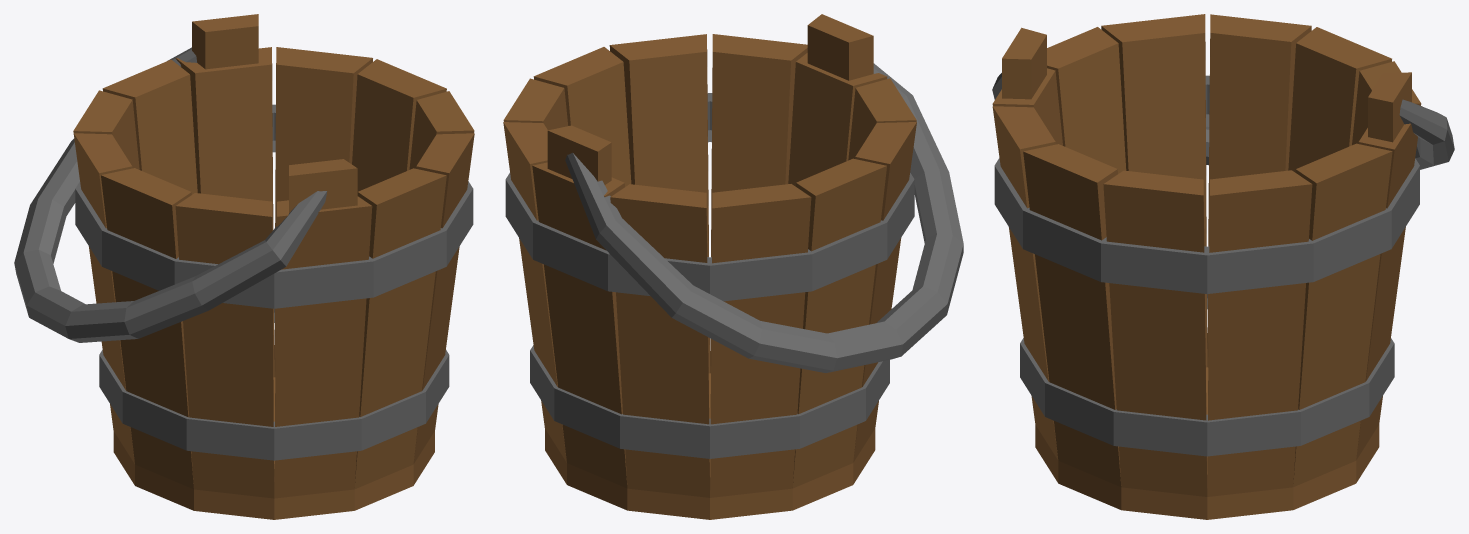
The model's file is Bucket.fbx.
3 renders of one model, left to right at view 1: azimuth 30°, elevation 25°; view 2: azimuth 150°, elevation 25°; view 3: azimuth 270°, elevation 25°, orthographic. The views are drawn at different scales.
Parts seen in each view (by area): view 1: Cylinder; view 2: Cylinder; view 3: Cylinder.
Boxes of the visible parts, box(x1,y1,x2,y2) form: Cylinder: box(14, 14, 474, 519); Cylinder: box(503, 14, 963, 519); Cylinder: box(992, 14, 1454, 519).
Bounding box in the file's own units: 22.52 × 19.51 × 21.42.
